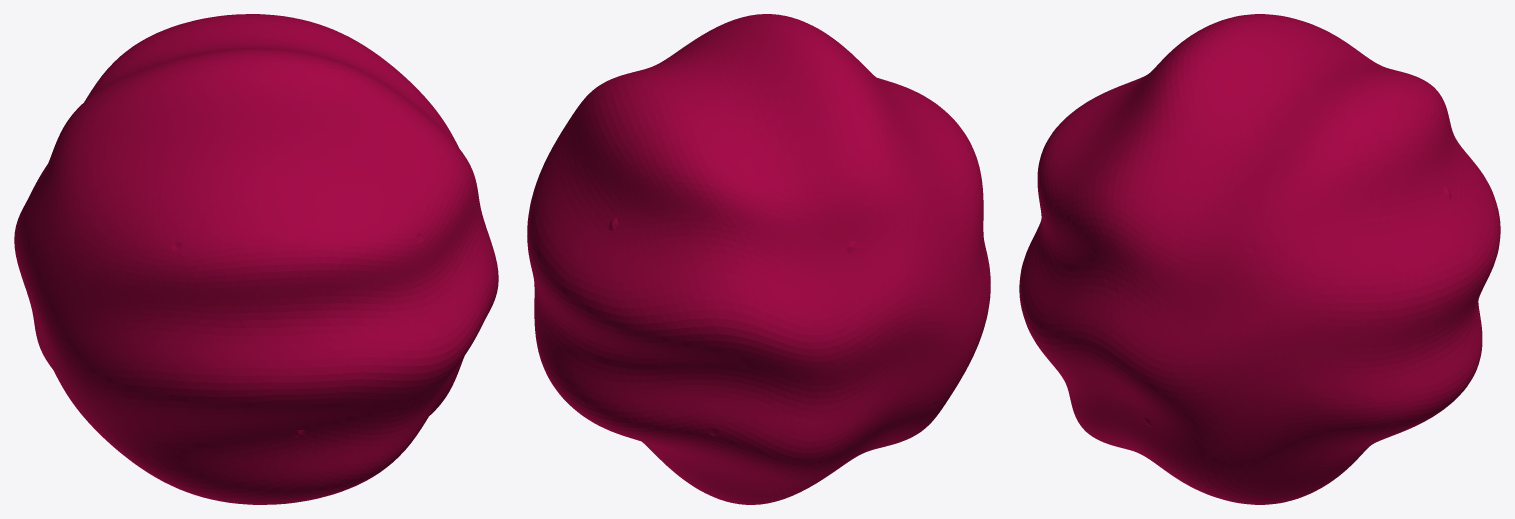
Rendered from Blobbie-02.dae.
3 views of the same model, side by side, from view 1: azimuth 30°, elevation 25°; view 2: azimuth 150°, elevation 25°; view 3: azimuth 270°, elevation 25° (orthographic).
Visible parts, largest first — view 1: Blobbie; view 2: Blobbie; view 3: Blobbie.
Part boxes in pixels (bbox=[...]): Blobbie: bbox=[14, 14, 498, 504]; Blobbie: bbox=[527, 14, 990, 504]; Blobbie: bbox=[1019, 14, 1500, 504].
Size of the model in its own units: 2 by 2.07 by 2.09.
